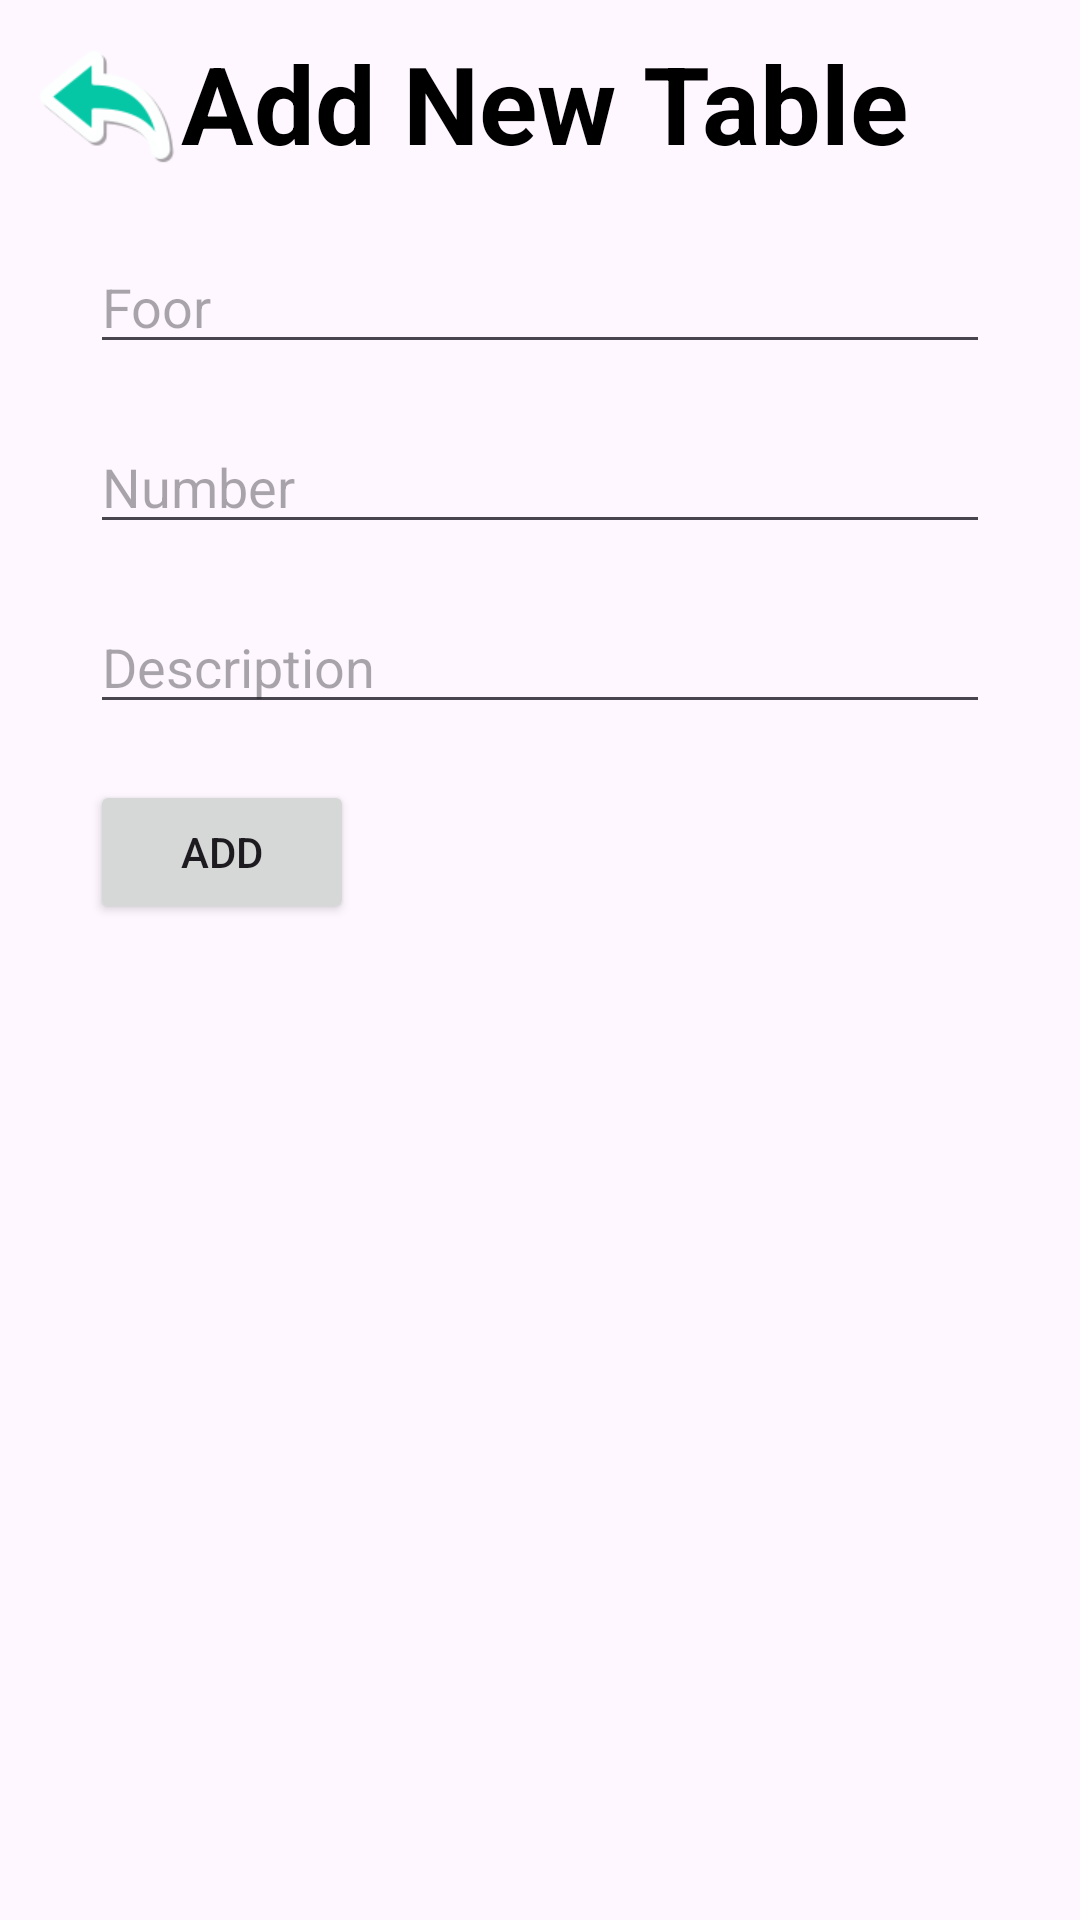

Icon bounding boxes for this 1080*1920 phone screenshot, format {"left": x1, "top": y1, "right": x2, "bottom": y2}:
back: {"left": 47, "top": 56, "right": 174, "bottom": 162}
